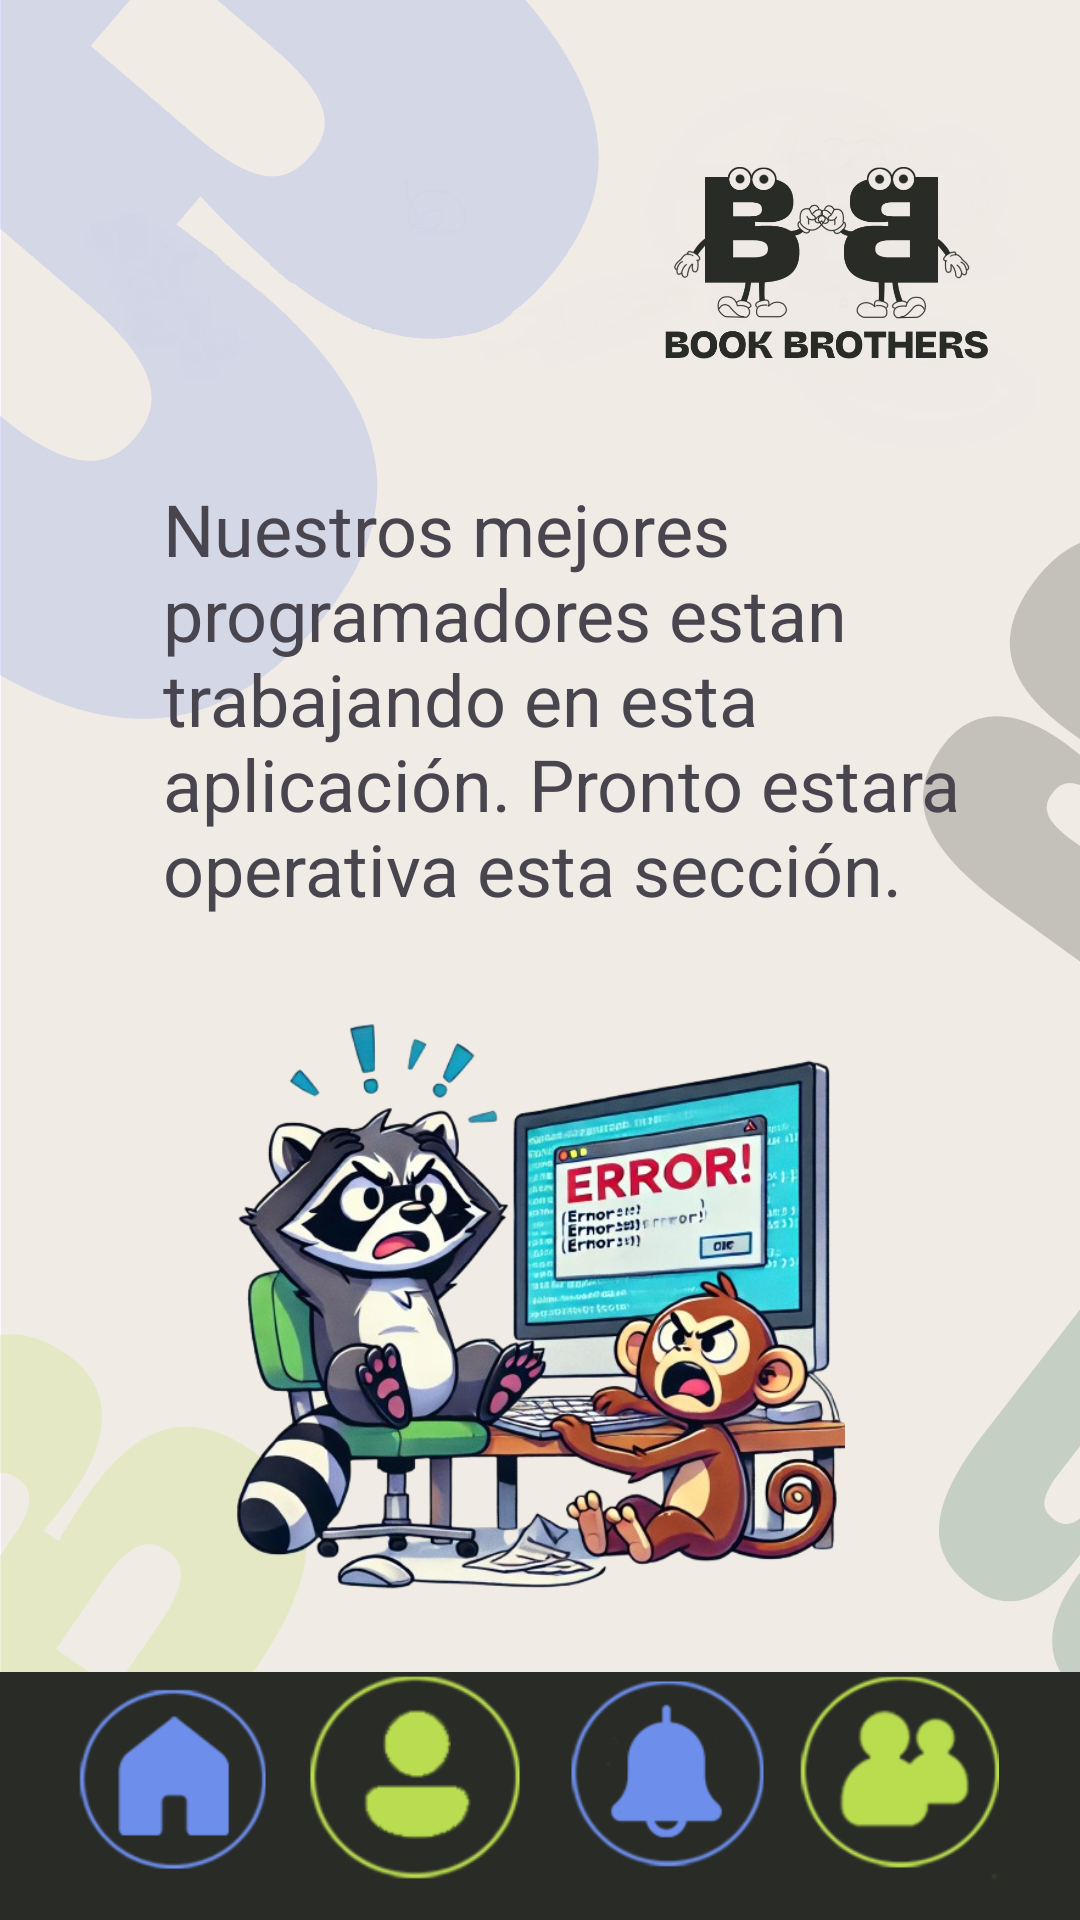

Named icons in this screenshot (1080px x 1920px) and their centers, point (x, y):
amigos home: point (899, 1772)
home: point (172, 1779)
notificaciones home: point (667, 1774)
perfil home: point (415, 1777)
